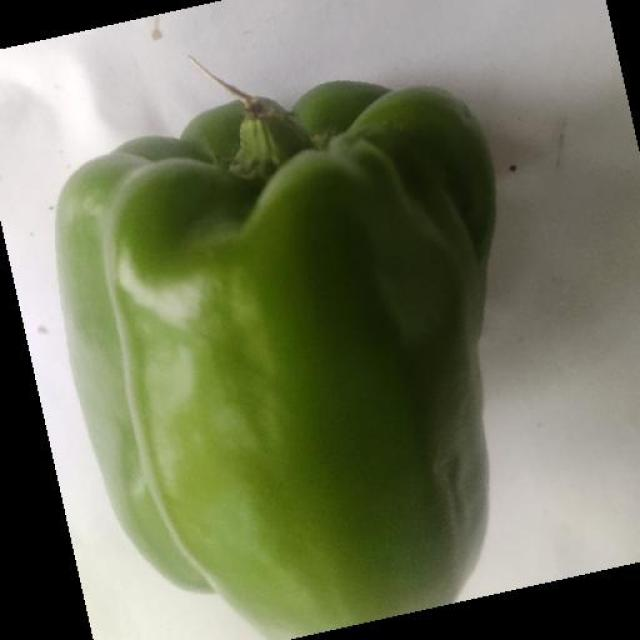Fresh_Capsicum: (34, 82, 572, 640)
